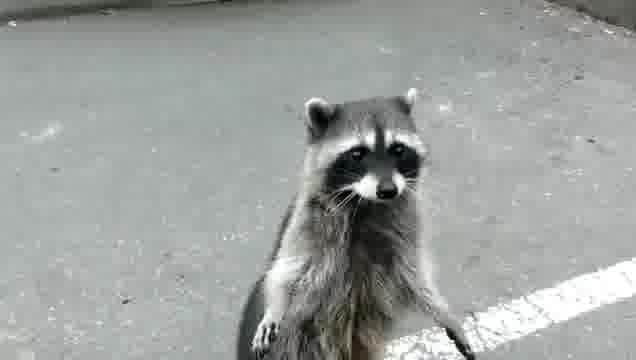raccoon: (234, 89, 475, 360)
